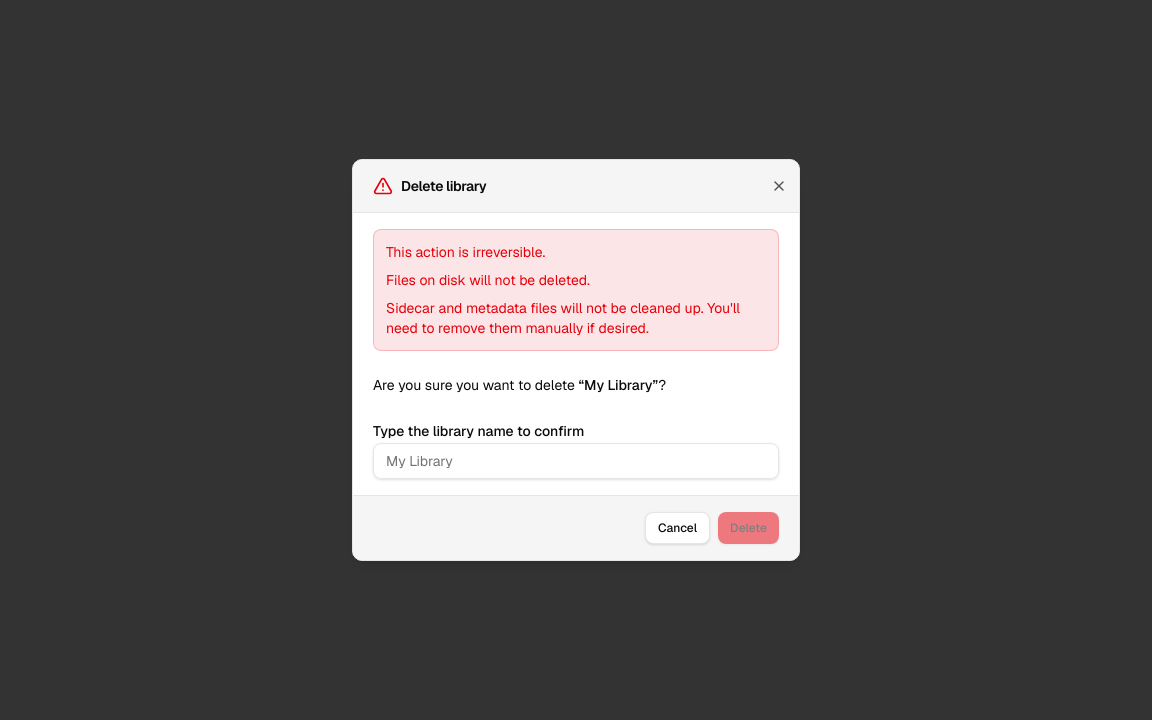
Test: DeleteLibraryDialog › disables the Delete button until the user types the exact library name
Expected: the button "Delete" is disabled, x1=718 y1=512 x2=779 y2=544
Type "my library" into the field labelled "Type the library name to confirm" at (576, 461), box x1=373 y1=443 x2=779 y2=479
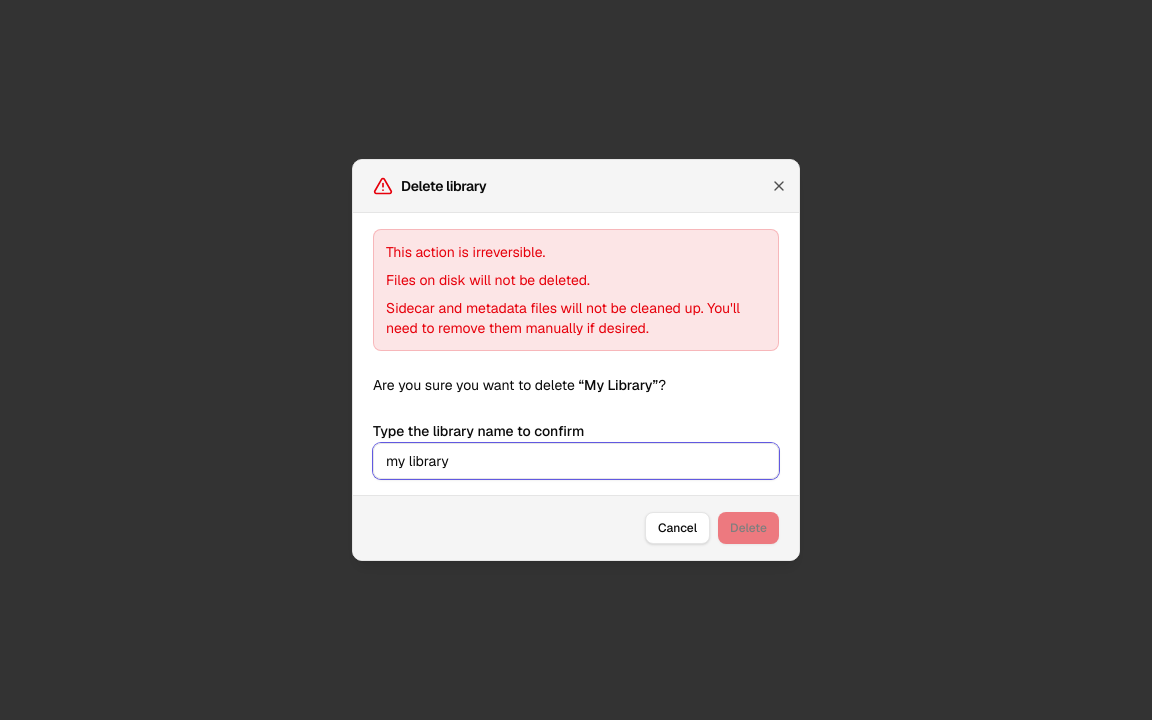
Expected: the button "Delete" is disabled, x1=718 y1=512 x2=779 y2=544
Replace the text in the field labelled "Type the library name to confirm" with "My Library" at (576, 461), box x1=373 y1=443 x2=779 y2=479
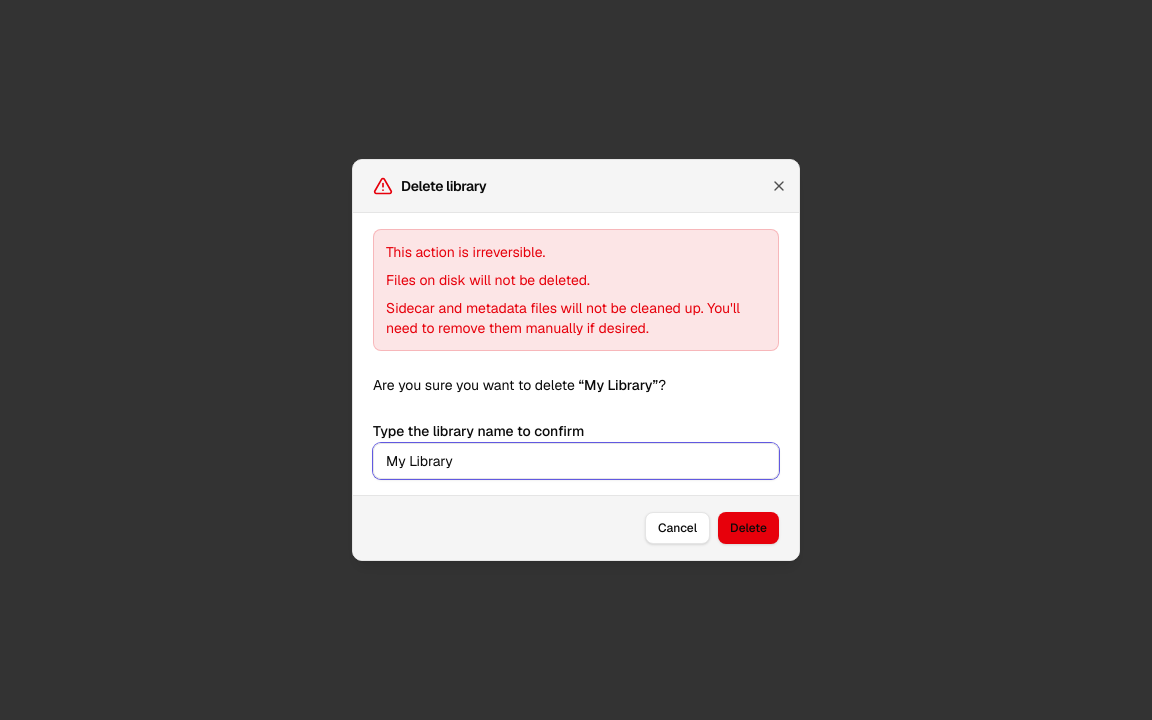
Result: the button "Delete" is enabled at x1=718 y1=512 x2=779 y2=544
